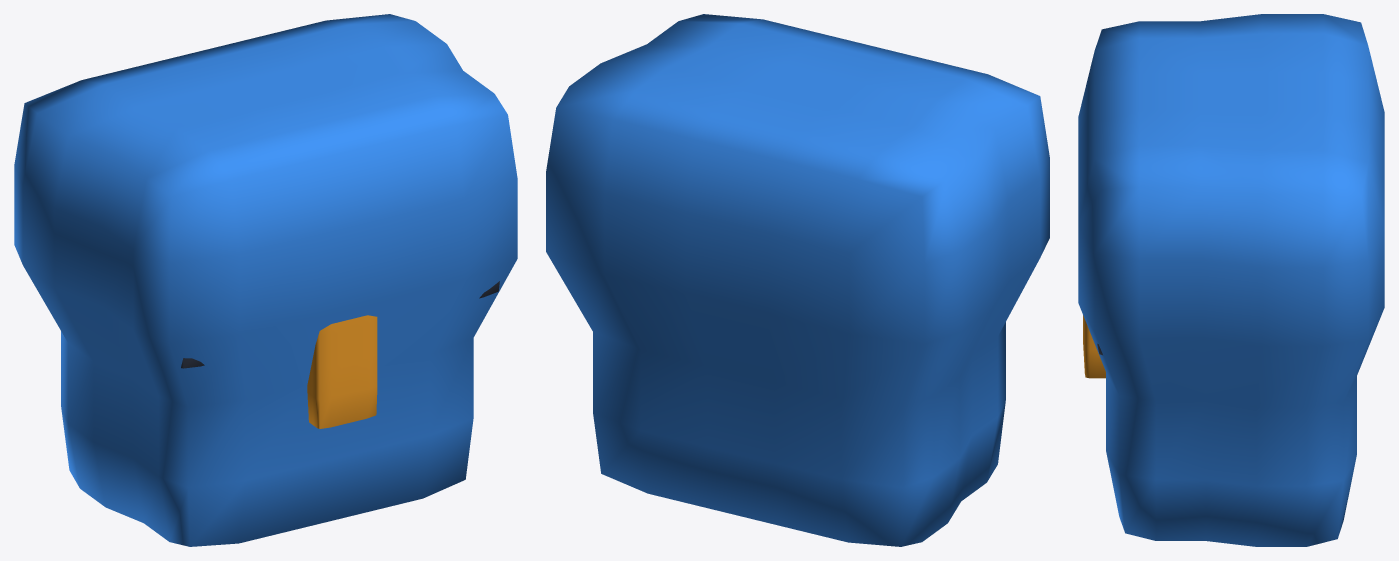
File: torso_aero.obj
The picture shows the model from 3 angles, left to right: view 1: azimuth 30°, elevation 25°; view 2: azimuth 150°, elevation 25°; view 3: azimuth 270°, elevation 25°; orthographic projection. The views are drawn at different scales.
Size of the model in its own units: 0.8052 by 0.76 by 0.5368.
